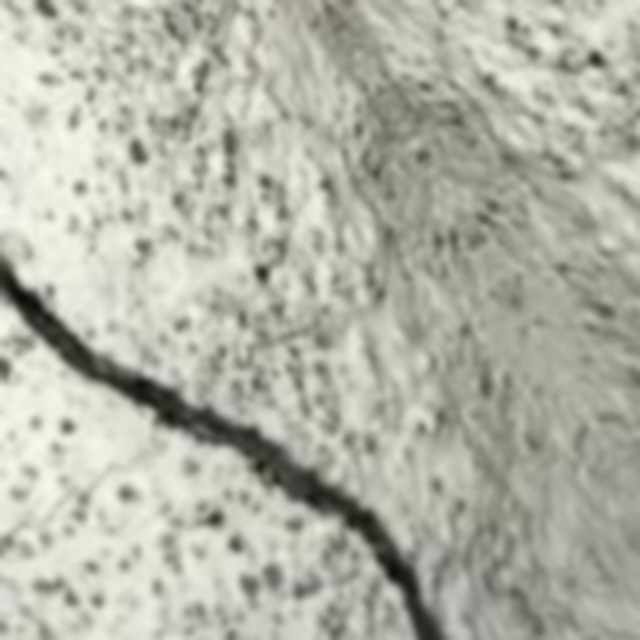SurfaceCrack: (0, 236, 478, 640)
